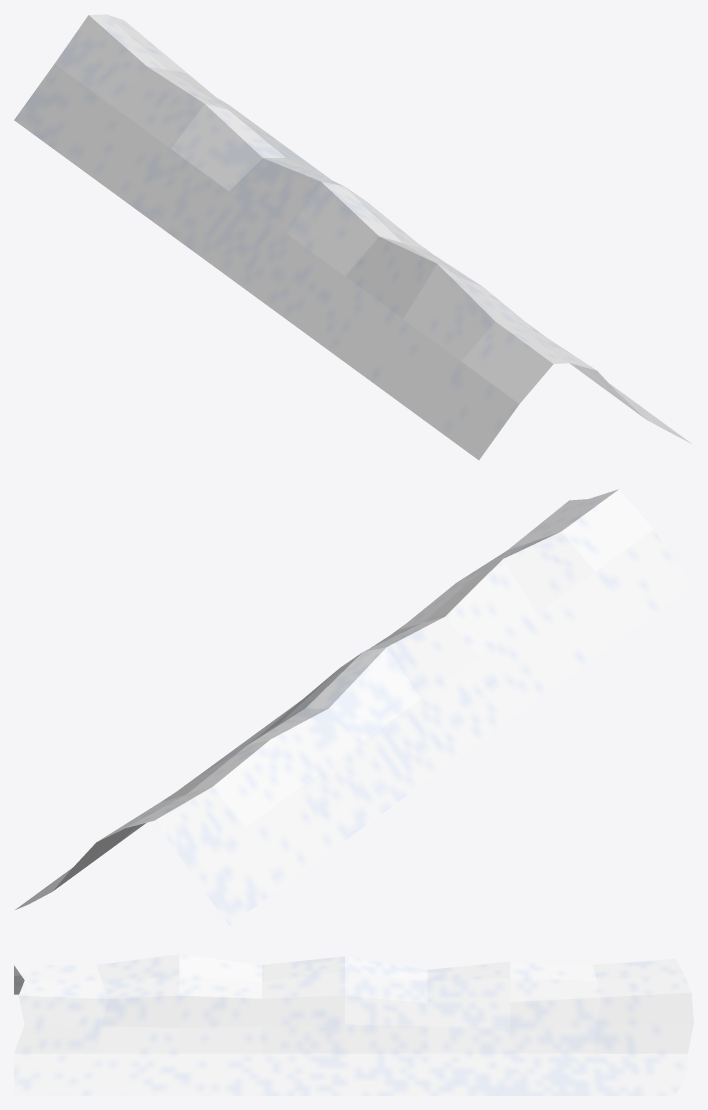
Rendered from Hill_Barrier_02.obj.
3 views of the same model, one above another, from view 1: azimuth 30°, elevation 25°; view 2: azimuth 150°, elevation 25°; view 3: azimuth 270°, elevation 25° (orthographic). The views are drawn at different scales.
Visible parts, largest first — view 1: Plane; view 2: Plane; view 3: Plane.
Part boxes in pixels (x1,y1,x2,y2): Plane: (14, 14, 692, 460); Plane: (15, 489, 693, 925); Plane: (14, 954, 693, 1095).
Bounding box in the file's own units: 16.24 × 9.43 × 62.51.
